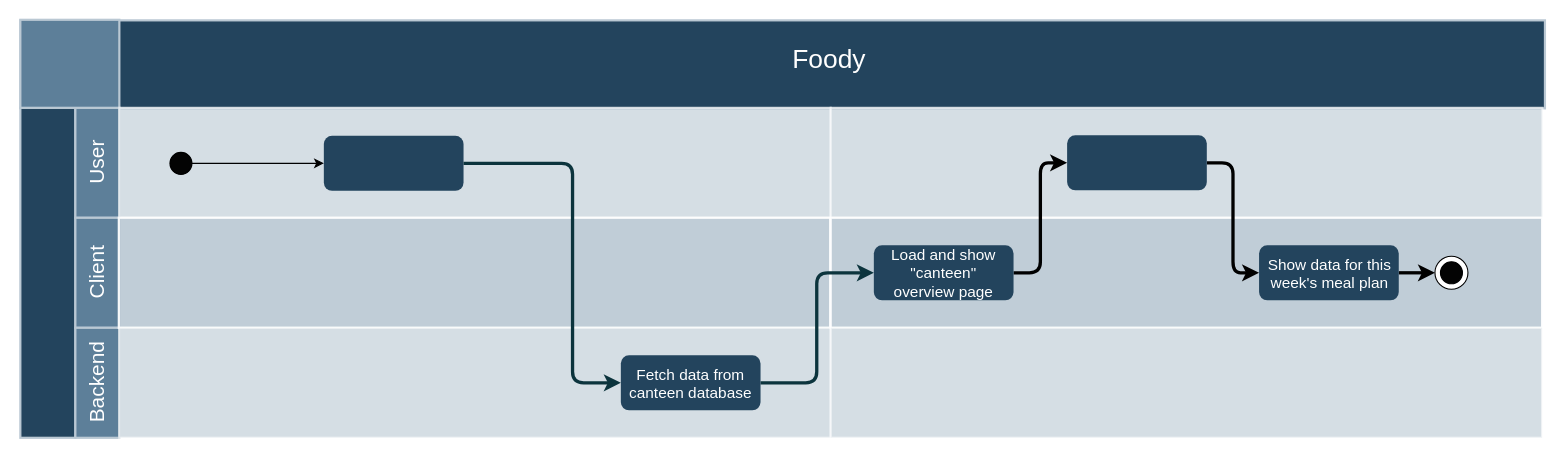
This 1564x458 diagram has some shape labels left out. The shapes that lost their labels are listed below. From the top down, each one's centre as x and y in pixels, then its label:
point 69,63: v 1.0
point 393,162: Click on button or widget "canteen"
point 1136,162: Click on button "Show meal plan"
point 47,272: Fetch meal plan
